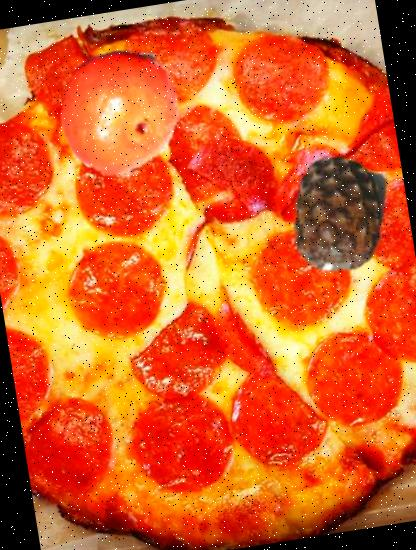Clementine: (46, 34, 196, 184)
Pineapple: (270, 145, 408, 282)
